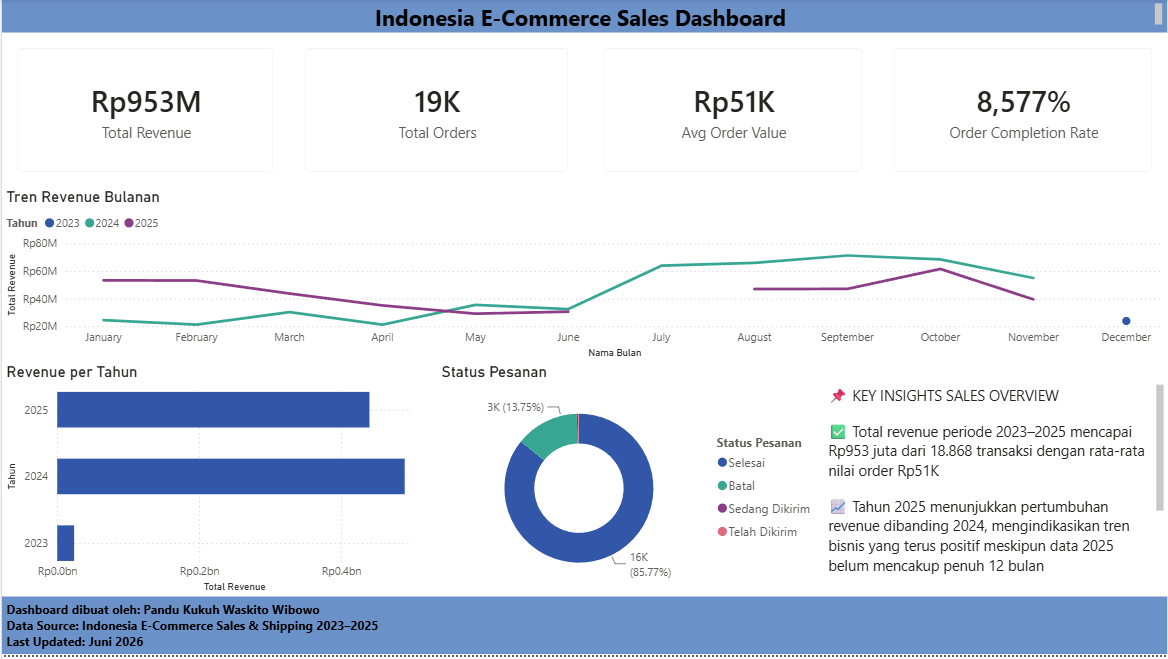

This screenshot's page, from the dashboard's own definition file:
{"tool":"powerbi","page":{"name":"Sales Overview","canvas":[1280,720],"ordinal":0},"visuals":[{"type":"cardVisual","fields":{"Data":["_Measures.Total Revenue"]},"box":[0,37,315.6,170.2],"z":0},{"type":"cardVisual","fields":{"Data":["_Measures.Total Orders"]},"box":[315.6,37,323.8,170.2],"z":1000},{"type":"cardVisual","fields":{"Data":["_Measures.Avg Order Value"]},"box":[643.6,37,318.4,170.2],"z":2000},{"type":"cardVisual","fields":{"Data":["_Measures.Order Completion Rate"]},"box":[961.9,37,318.4,170.2],"z":3000},{"type":"lineChart","title":"Tren Revenue Bulanan","fields":{"Y":["_Measures.Total Revenue"],"Series":["Dim_Waktu.Tahun"],"Category":["Dim_Waktu.Nama Bulan"]},"box":[0,207.2,1280.3,192.1],"z":4000},{"type":"clusteredBarChart","title":"Revenue per Tahun","fields":{"Y":["_Measures.Total Revenue"],"Category":["Dim_Waktu.Tahun"]},"box":[0,399.3,477.5,256.6],"z":5000},{"type":"donutChart","title":"Status Pesanan","fields":{"Category":["Fact_Penjualan.Status Pesanan"],"Y":["_Measures.Total Orders"]},"box":[477.5,399.3,424,256.6],"z":6000},{"type":"textbox","box":[0,0,1278.9,37],"z":7000},{"type":"textbox","box":[901.5,418.5,378.7,237.4],"z":8000},{"type":"textbox","box":[0,656.3,1278.9,63.4],"z":9000}]}

Visuals, with their boxes in screenshot pixels (x1, y1, x2, y2), scaled from the page's 1280x720 canvas onto the 1168x659 screenshot:
cardVisual - _Measures.Total Revenue: select_region(0, 34, 288, 190)
cardVisual - _Measures.Total Orders: select_region(288, 34, 583, 190)
cardVisual - _Measures.Avg Order Value: select_region(587, 34, 878, 190)
cardVisual - _Measures.Order Completion Rate: select_region(878, 34, 1167, 190)
"Tren Revenue Bulanan" lineChart: select_region(0, 190, 1167, 365)
"Revenue per Tahun" clusteredBarChart: select_region(0, 365, 436, 600)
"Status Pesanan" donutChart: select_region(436, 365, 823, 600)
textbox: select_region(0, 0, 1167, 34)
textbox: select_region(823, 383, 1167, 600)
textbox: select_region(0, 601, 1167, 658)
